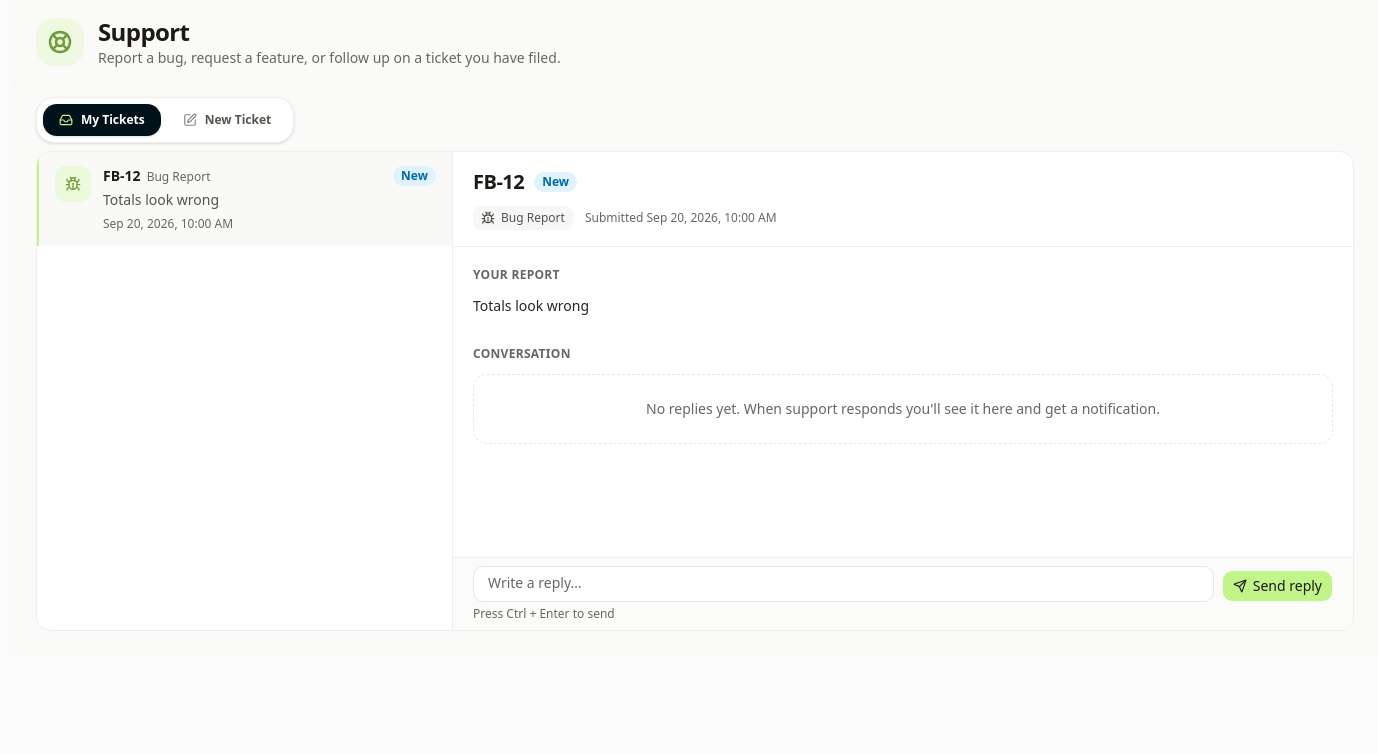
Test: SupportPage tabs › records the chosen tab in the URL
The width and height of the screenshot is (1378, 754).
What coordinates should you click on to do the following:
click the tab "New Ticket"
I would click on:
 (227, 120)
Its box is top-left (167, 104), bottom-right (287, 136).
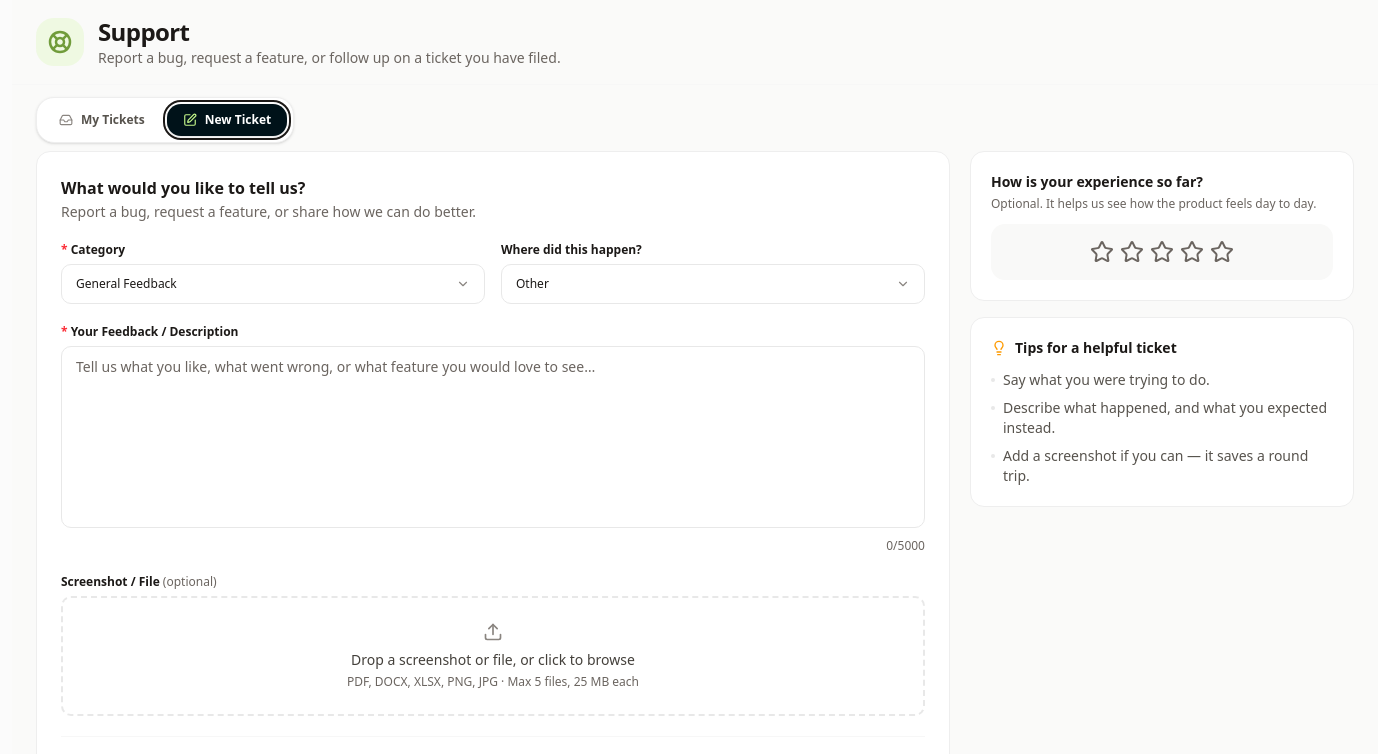
Now the dropdown named "Where did this happen?" is shown, box top-left (501, 264), bottom-right (925, 304)
What coordinates should you click on to do the following:
click the tab "My Tickets"
I would click on:
 (102, 120)
Its box is top-left (43, 104), bottom-right (161, 136).
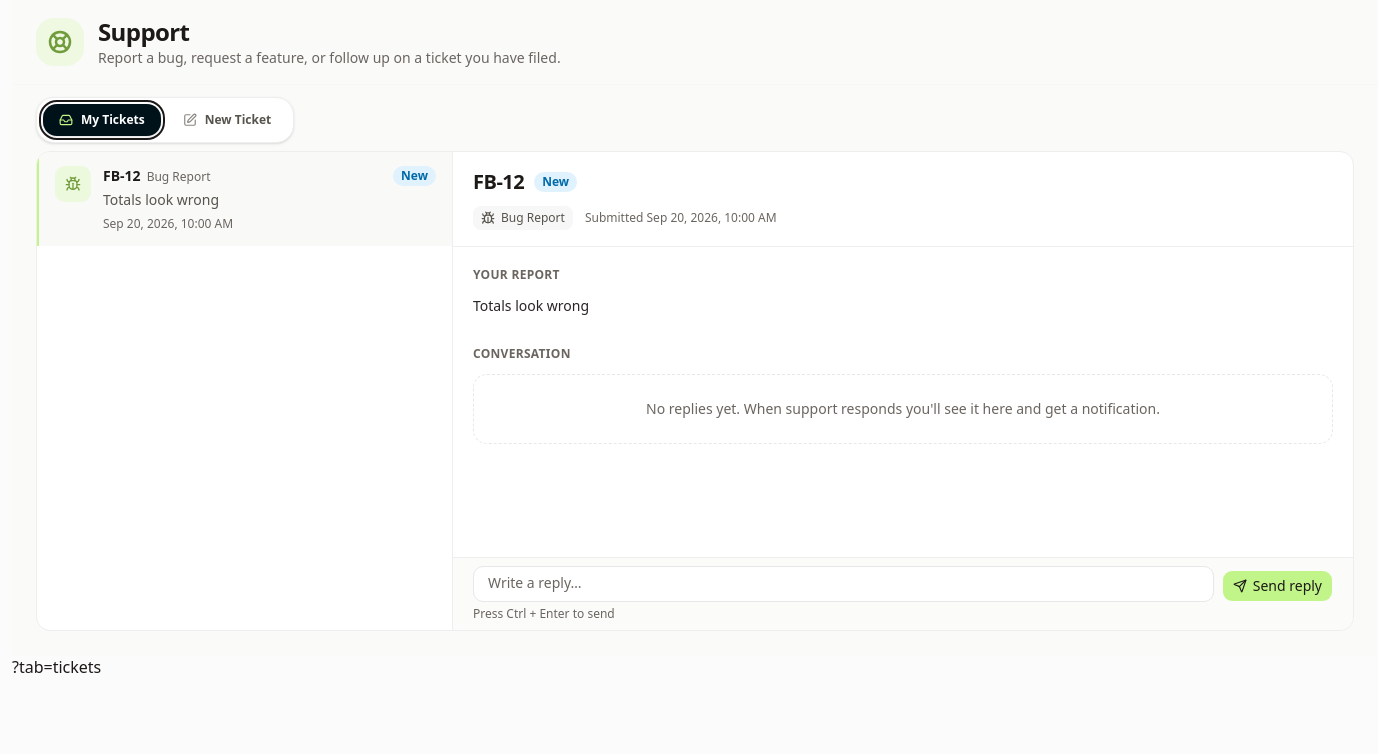
Now the text with test id "search" reads "?tab=tickets", box top-left (12, 656), bottom-right (101, 678)
